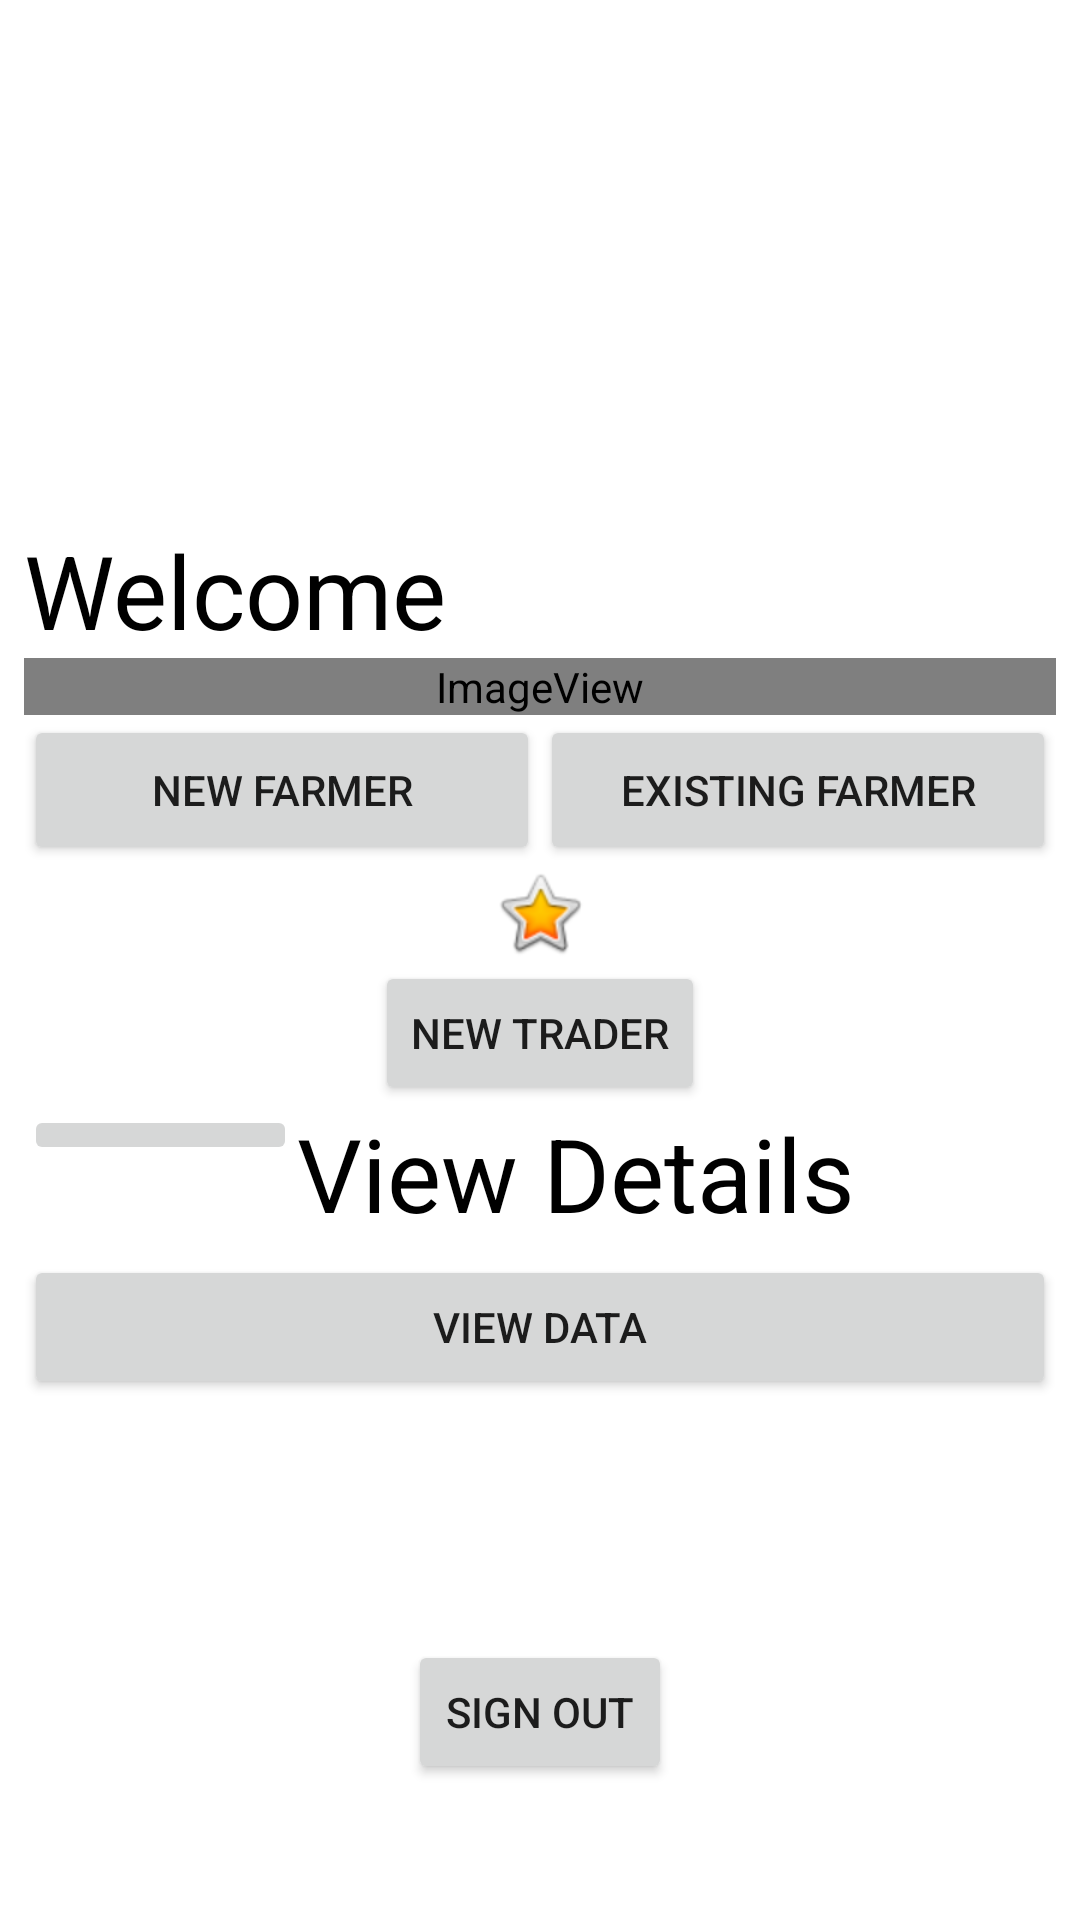

Screen size 1080 x 1920. Icon name, then its center in pixels as (x,y):
star on: (541,914)
